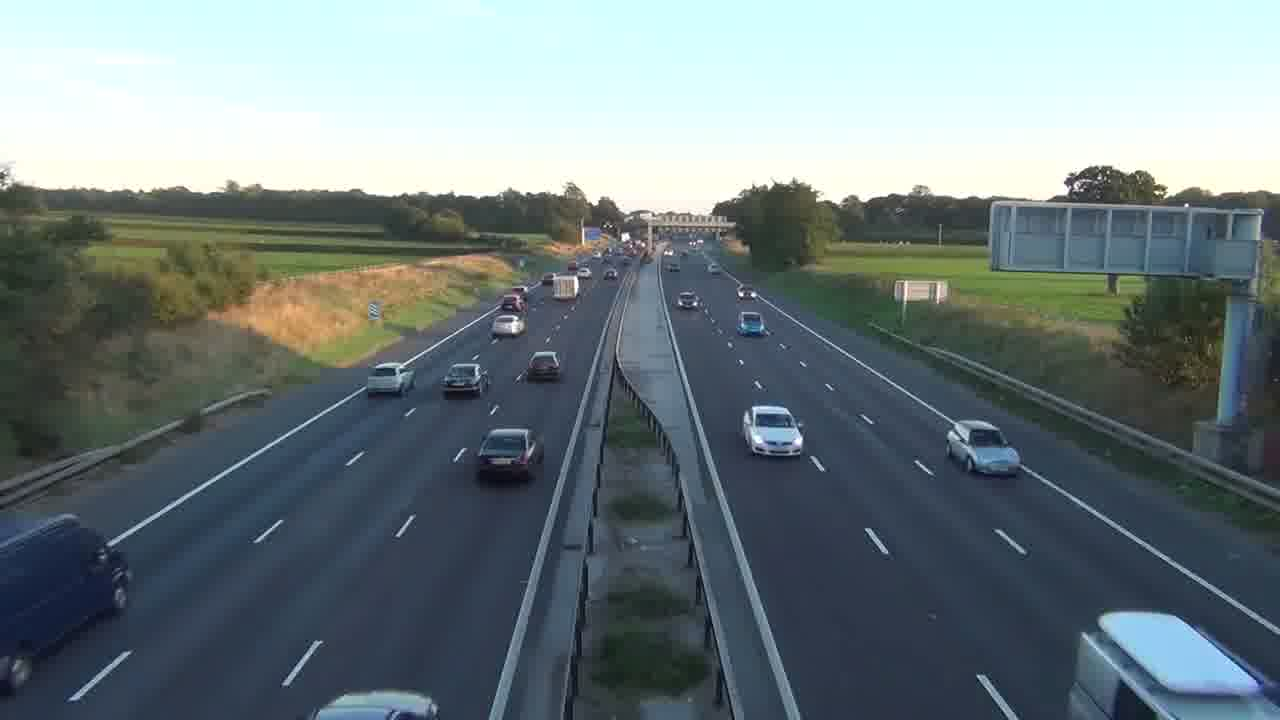car: (944, 419, 1021, 477), (476, 427, 545, 482), (313, 689, 439, 719), (742, 404, 805, 458), (442, 362, 487, 399), (526, 351, 562, 382)
truck: (1067, 609, 1280, 718), (0, 513, 131, 661), (367, 362, 413, 396)
